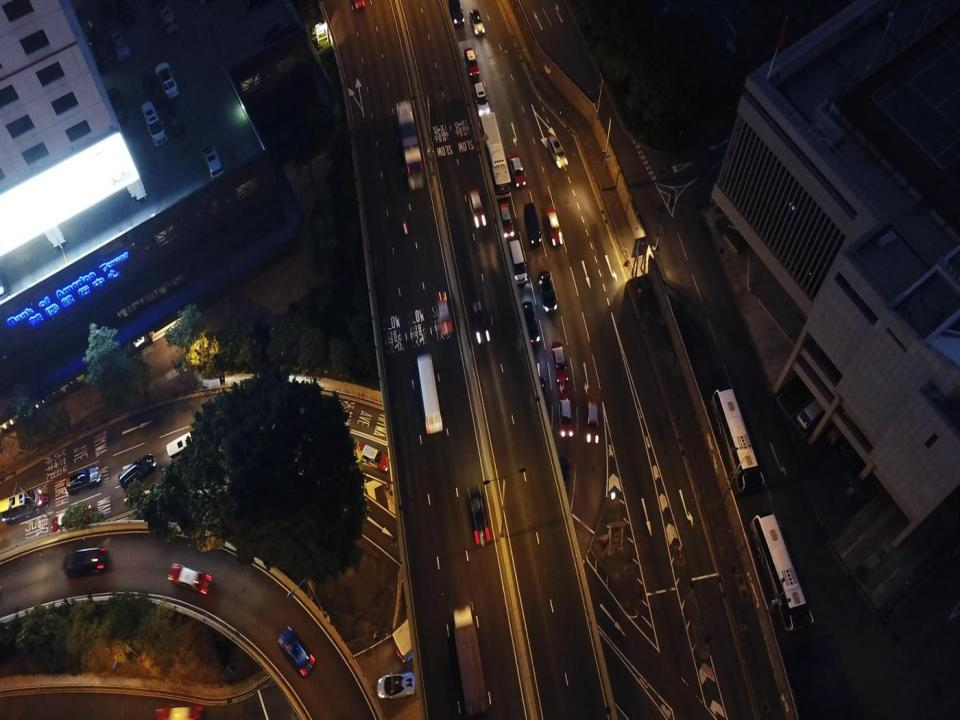bus: (750, 511, 814, 633), (710, 388, 764, 492), (392, 590, 466, 662), (479, 112, 511, 198), (396, 100, 424, 189), (416, 354, 442, 433)
car: (278, 626, 315, 676), (167, 563, 213, 596), (466, 486, 490, 546), (354, 440, 392, 472), (63, 548, 108, 575), (64, 468, 102, 494), (376, 673, 415, 698), (519, 300, 540, 346), (155, 61, 179, 98), (105, 87, 127, 126), (544, 206, 564, 246), (434, 290, 453, 332), (108, 28, 131, 61), (468, 188, 486, 230), (551, 341, 569, 382), (585, 394, 599, 444), (164, 102, 184, 136), (558, 393, 573, 437), (508, 154, 526, 188), (158, 4, 178, 34), (498, 202, 514, 237), (142, 73, 161, 102), (94, 36, 111, 68), (464, 47, 480, 76)
truck: (452, 605, 490, 714)
van: (119, 454, 157, 493), (1, 489, 44, 522), (166, 428, 206, 461), (142, 101, 168, 146), (538, 272, 559, 314), (508, 240, 527, 284), (523, 203, 541, 247), (202, 144, 224, 179), (472, 82, 491, 117), (547, 136, 567, 168), (470, 8, 485, 38), (447, 0, 464, 26)
